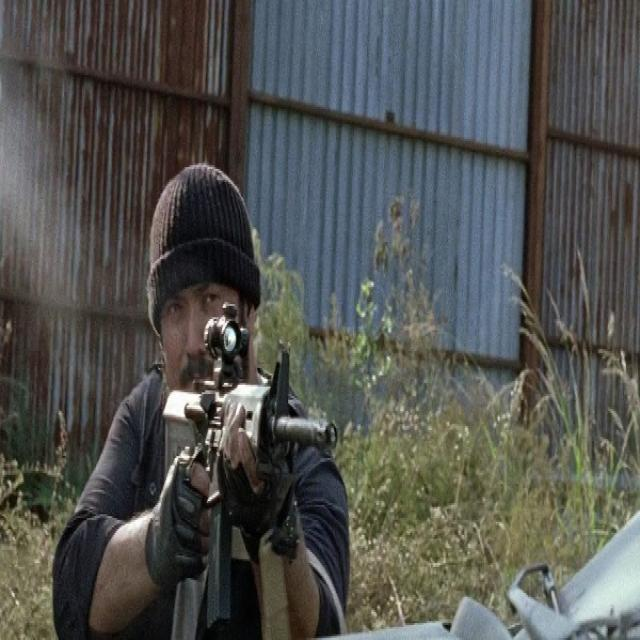rifle: (159, 302, 343, 640)
